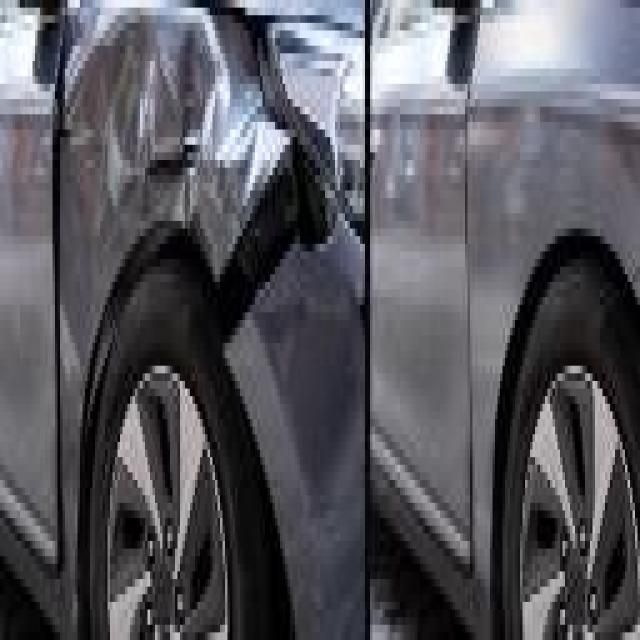Bumper: (219, 218, 377, 640)
Fender: (62, 0, 308, 399)
